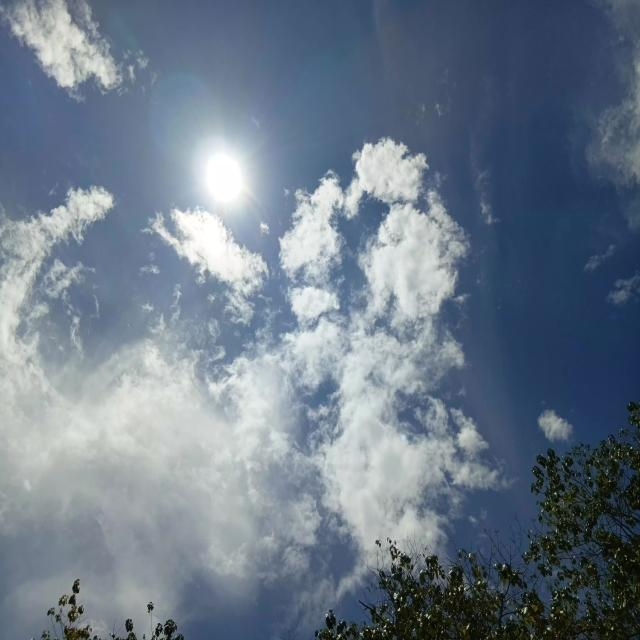cumulus: (13, 203, 472, 531)
